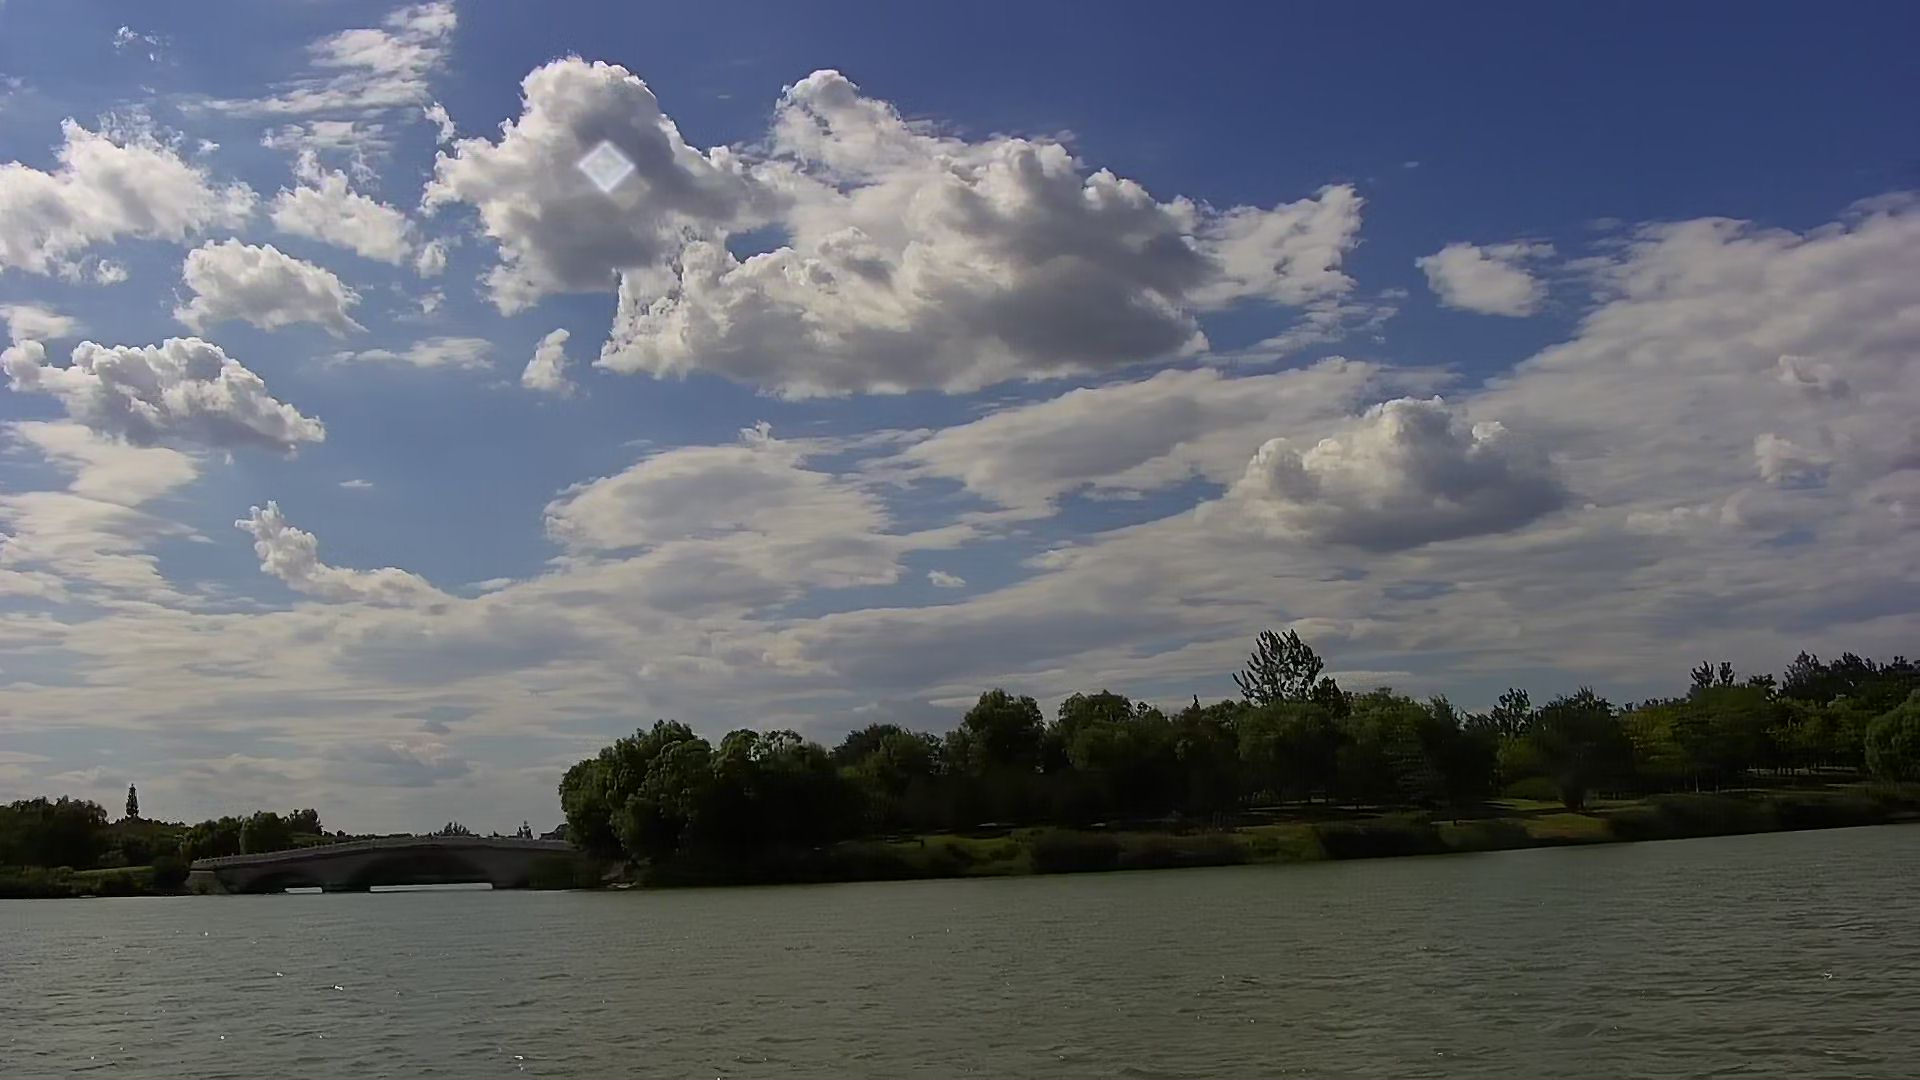boat: (260, 816, 591, 918)
